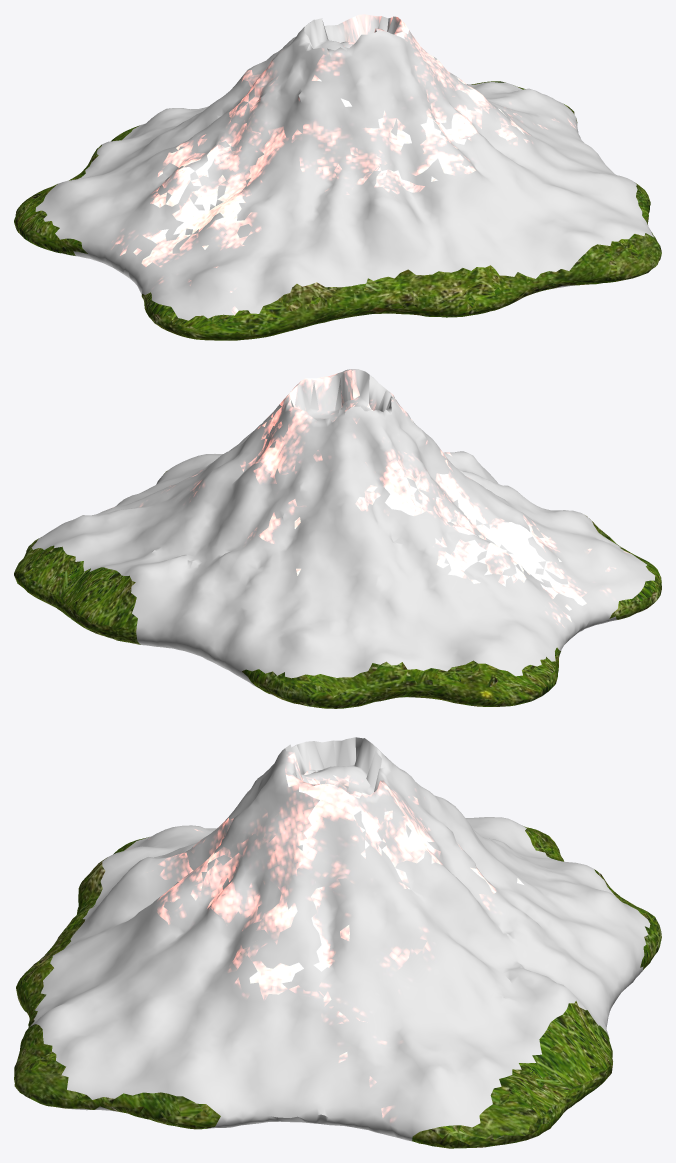
The model's file is zonadinosaurios volcan .fbx.
The picture shows the model from 3 angles, top to bottom: view 1: azimuth 30°, elevation 25°; view 2: azimuth 150°, elevation 25°; view 3: azimuth 270°, elevation 25°; orthographic projection. The views are drawn at different scales.
Parts seen in each view (by area): view 1: Mesh; view 2: Mesh; view 3: Mesh.
Part boxes in pixels (bbox=[...]): Mesh: bbox=[14, 14, 661, 340]; Mesh: bbox=[14, 369, 661, 708]; Mesh: bbox=[14, 737, 661, 1148].
Size of the model in its own units: 4788 by 1826 by 4119.
Materials: 3 (1 with a texture image).
